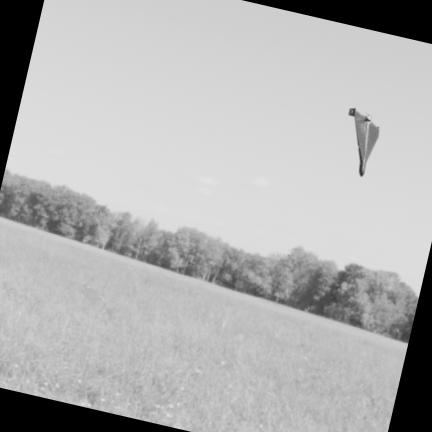Shahed: (348, 108, 380, 177)
